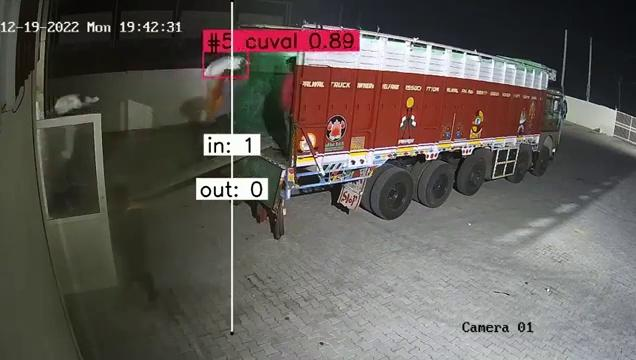karung: (52, 93, 101, 113), (205, 53, 245, 75)
